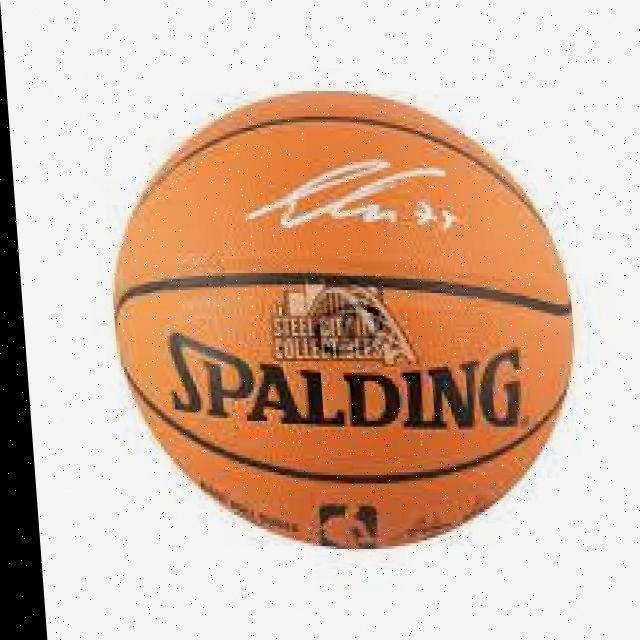Basketball: (94, 92, 600, 550)
